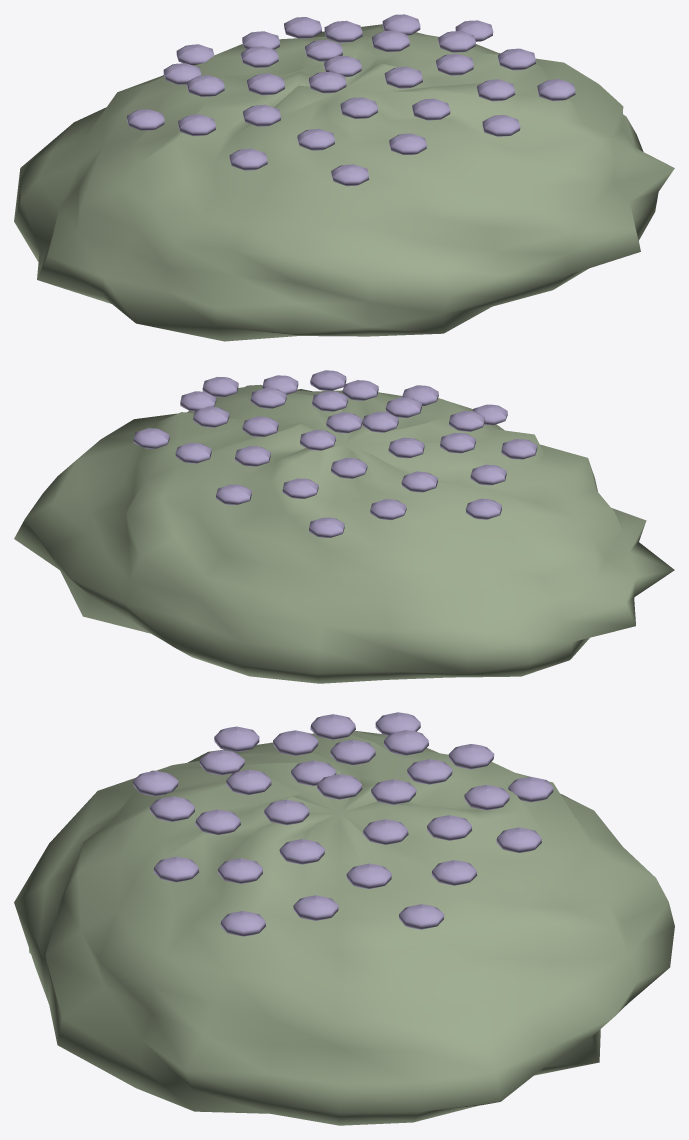
Rendered from alpine-and-arctic-biomes-moss-campion-e19db113__20949.glb.
The picture shows the model from 3 angles, top to bottom: view 1: azimuth 30°, elevation 25°; view 2: azimuth 150°, elevation 25°; view 3: azimuth 270°, elevation 25°; orthographic projection. The views are drawn at different scales.
Parts seen in each view (by area): view 1: moss-campion; view 2: moss-campion; view 3: moss-campion.
Boxes of the visible parts, bbox=[...] form: moss-campion: bbox=[14, 14, 674, 341]; moss-campion: bbox=[14, 370, 674, 683]; moss-campion: bbox=[14, 712, 674, 1125].
Size of the model in its own units: 0.6074 by 0.1622 by 0.503.
